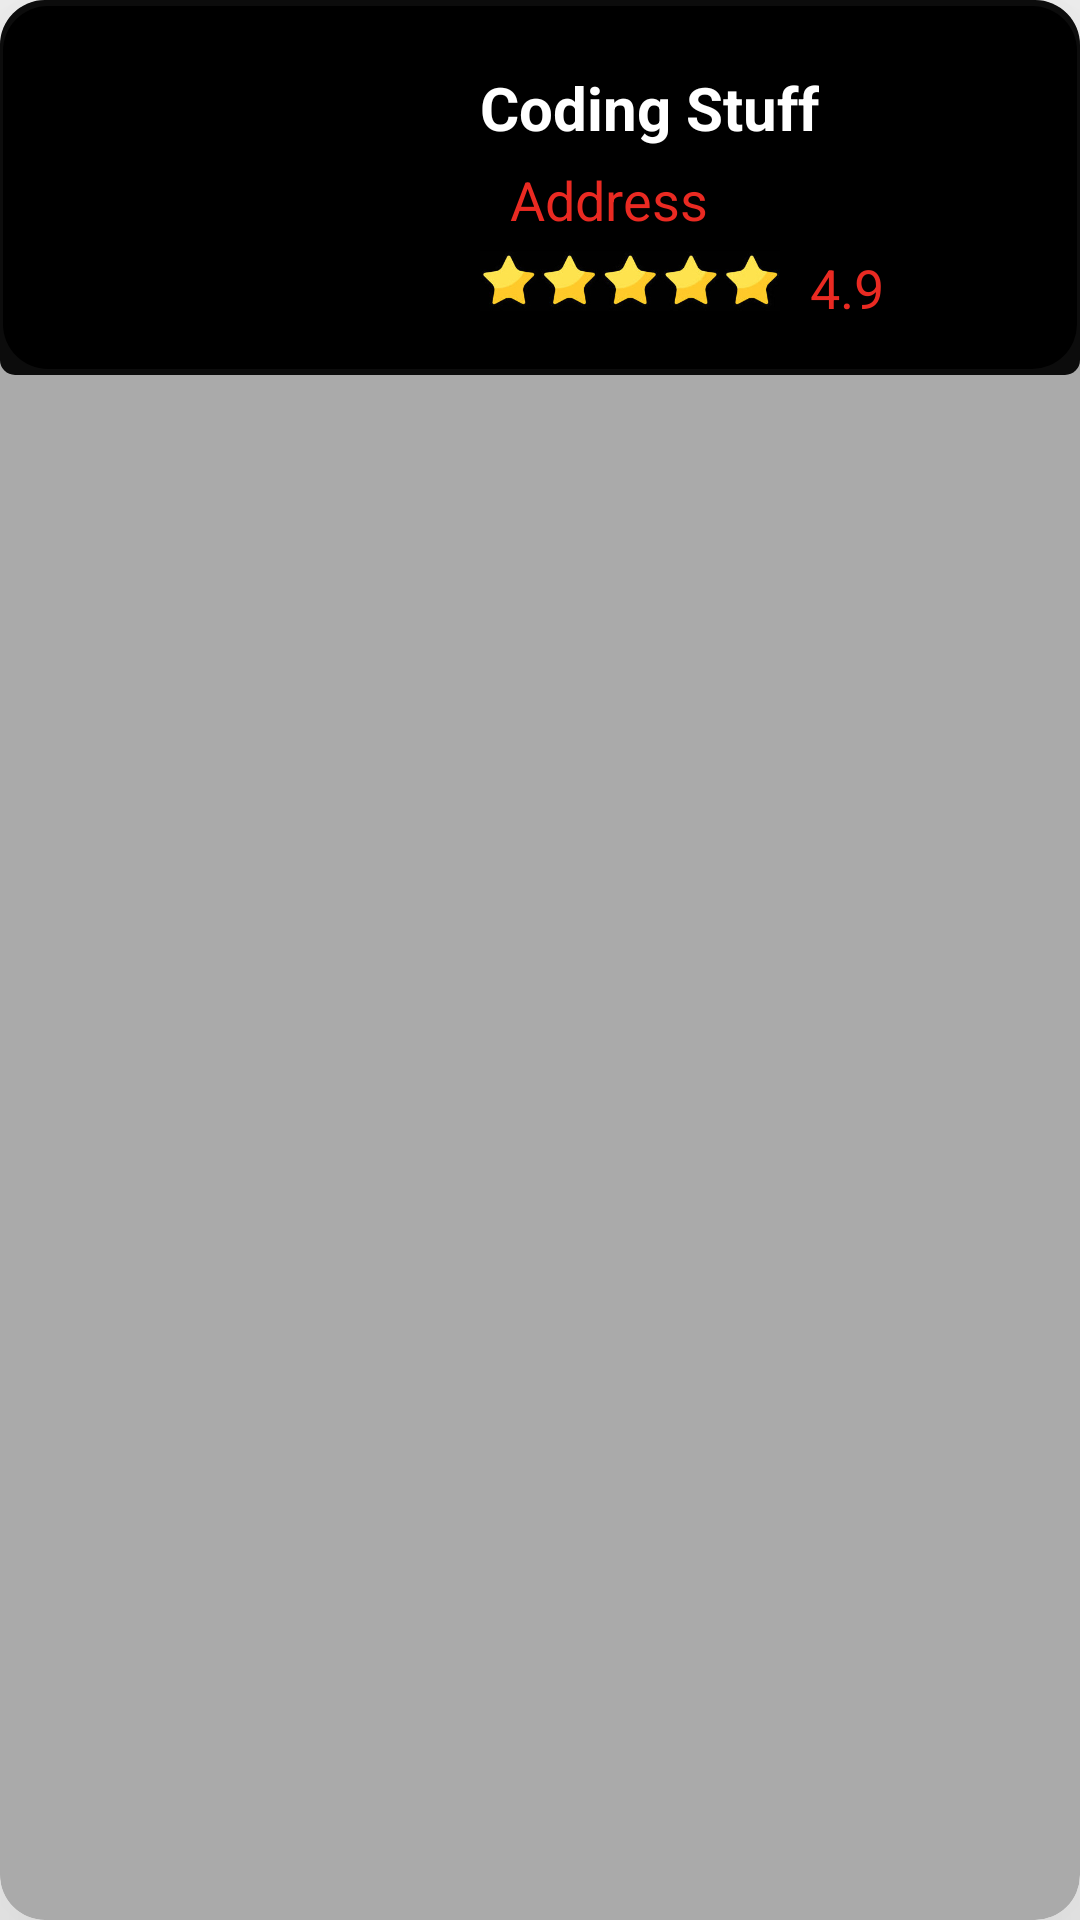

Icons on this 1080 x 1920 Android screen, each with its box as (x1,y1,x2,y2):
stars: (483,255,779,306)
